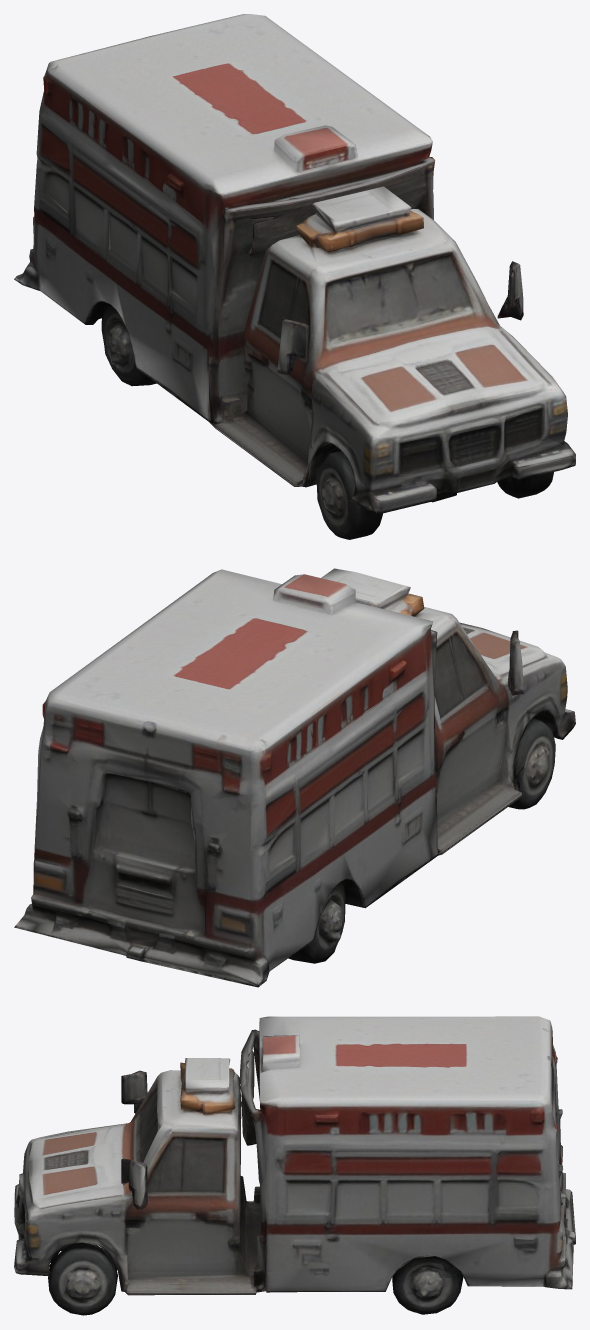
File: ambulance.glb
3 views of the same model, one above another, from view 1: azimuth 30°, elevation 25°; view 2: azimuth 150°, elevation 25°; view 3: azimuth 270°, elevation 25° (orthographic). The views are drawn at different scales.
Parts seen in each view (by area): view 1: ambulance; view 2: ambulance; view 3: ambulance.
Part boxes in pixels (left/top/right/bottom): ambulance: left=14, top=14, right=575, bottom=539; ambulance: left=14, top=568, right=575, bottom=987; ambulance: left=14, top=1016, right=575, bottom=1315.
Size of the model in its own units: 0.4104 by 0.4596 by 0.9939.
1 material, 1 textured.
